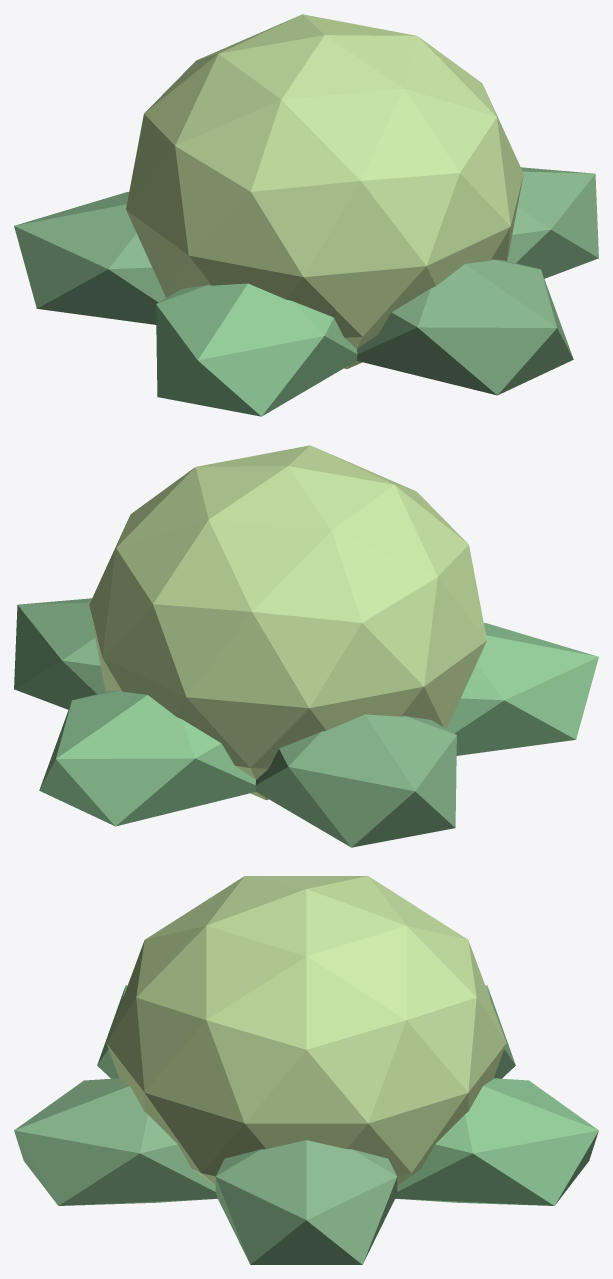
Rendered from crop_cabbage.glb.
The picture shows the model from 3 angles, top to bottom: view 1: azimuth 30°, elevation 25°; view 2: azimuth 150°, elevation 25°; view 3: azimuth 270°, elevation 25°; orthographic projection.
Visible parts, largest first — view 1: pale cabbage heart.010, faceted outer leaf.053, faceted outer leaf.054, faceted outer leaf.052, faceted outer leaf.050; view 2: pale cabbage heart.010, faceted outer leaf.052, faceted outer leaf.051, faceted outer leaf.053, faceted outer leaf.050; view 3: pale cabbage heart.010, faceted outer leaf.050, faceted outer leaf.051, faceted outer leaf.054, faceted outer leaf.052, faceted outer leaf.053.
Part boxes in pixels (x1,y1,x2,y2): pale cabbage heart.010: (126, 14, 523, 368); faceted outer leaf.053: (156, 283, 357, 416); faceted outer leaf.054: (356, 259, 573, 395); faceted outer leaf.052: (14, 192, 165, 324); faceted outer leaf.050: (507, 167, 598, 278); pale cabbage heart.010: (89, 445, 486, 799); faceted outer leaf.052: (255, 714, 456, 847); faceted outer leaf.051: (39, 690, 256, 826); faceted outer leaf.053: (447, 623, 598, 755); faceted outer leaf.050: (14, 598, 105, 709); pale cabbage heart.010: (106, 876, 506, 1185); faceted outer leaf.050: (215, 1140, 397, 1264); faceted outer leaf.051: (395, 1078, 598, 1205); faceted outer leaf.054: (14, 1078, 217, 1205); faceted outer leaf.052: (485, 985, 515, 1078); faceted outer leaf.053: (97, 985, 127, 1078).
Size of the model in its own units: 1.22 by 0.7344 by 1.26.
